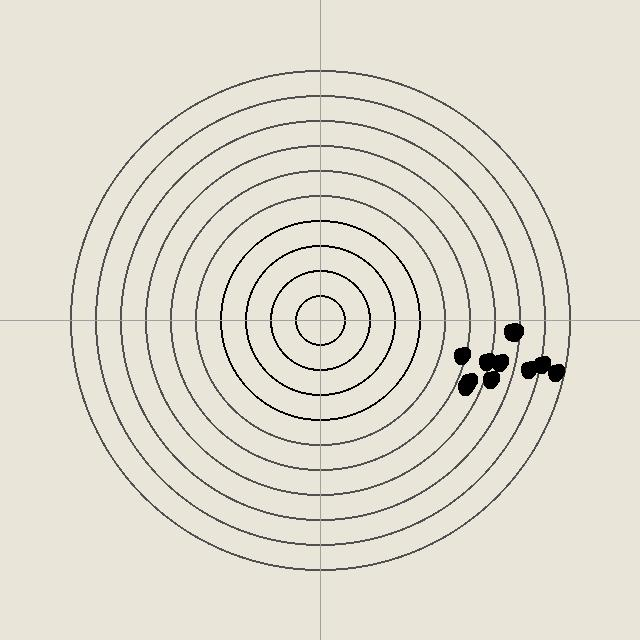horizontal_scatter: (451, 345, 471, 365), (480, 369, 500, 389), (504, 322, 524, 342), (455, 376, 475, 396), (545, 362, 565, 382), (458, 371, 478, 391), (476, 351, 496, 371), (489, 352, 509, 372), (501, 321, 521, 341), (531, 354, 551, 374), (518, 359, 538, 379)
